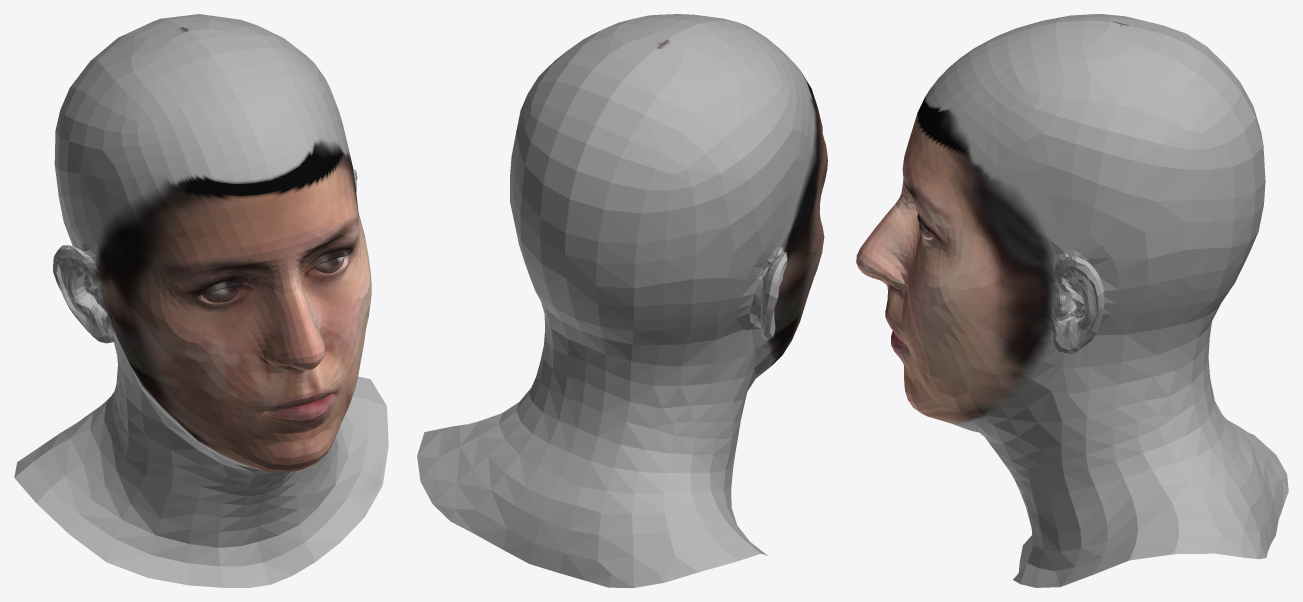
Rendered from face_video_frame0731.obj.
The picture shows the model from 3 angles, left to right: view 1: azimuth 30°, elevation 25°; view 2: azimuth 150°, elevation 25°; view 3: azimuth 270°, elevation 25°; orthographic projection.
Size of the model in its own units: 0.2158 by 0.3243 by 0.2379.
Materials: 1 (1 with a texture image).
